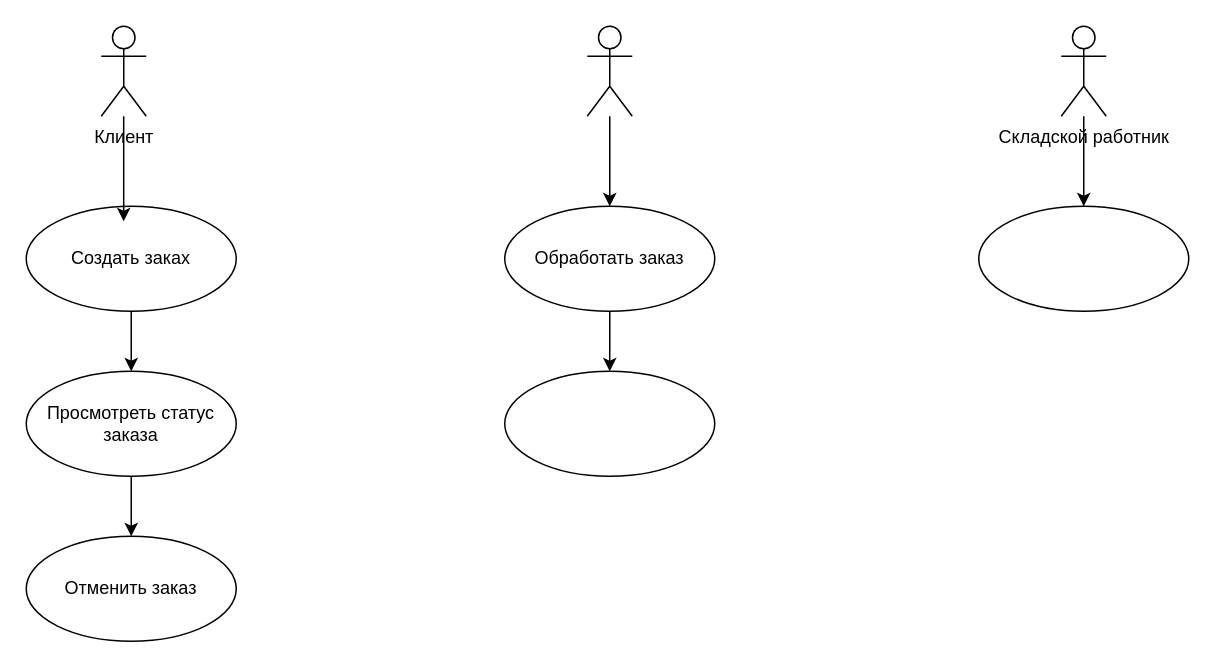
Some shapes in this 1215 by 668 pixel diagram are drawn without their labels. The shapes that lost their labels are listed below. From the top down, each one's centre as x and y in pixels, then its label:
At pixel 609 70: "Менеджер".
At pixel 1083 258: "Доставить товар".
At pixel 609 423: "Утвердить доставку".
